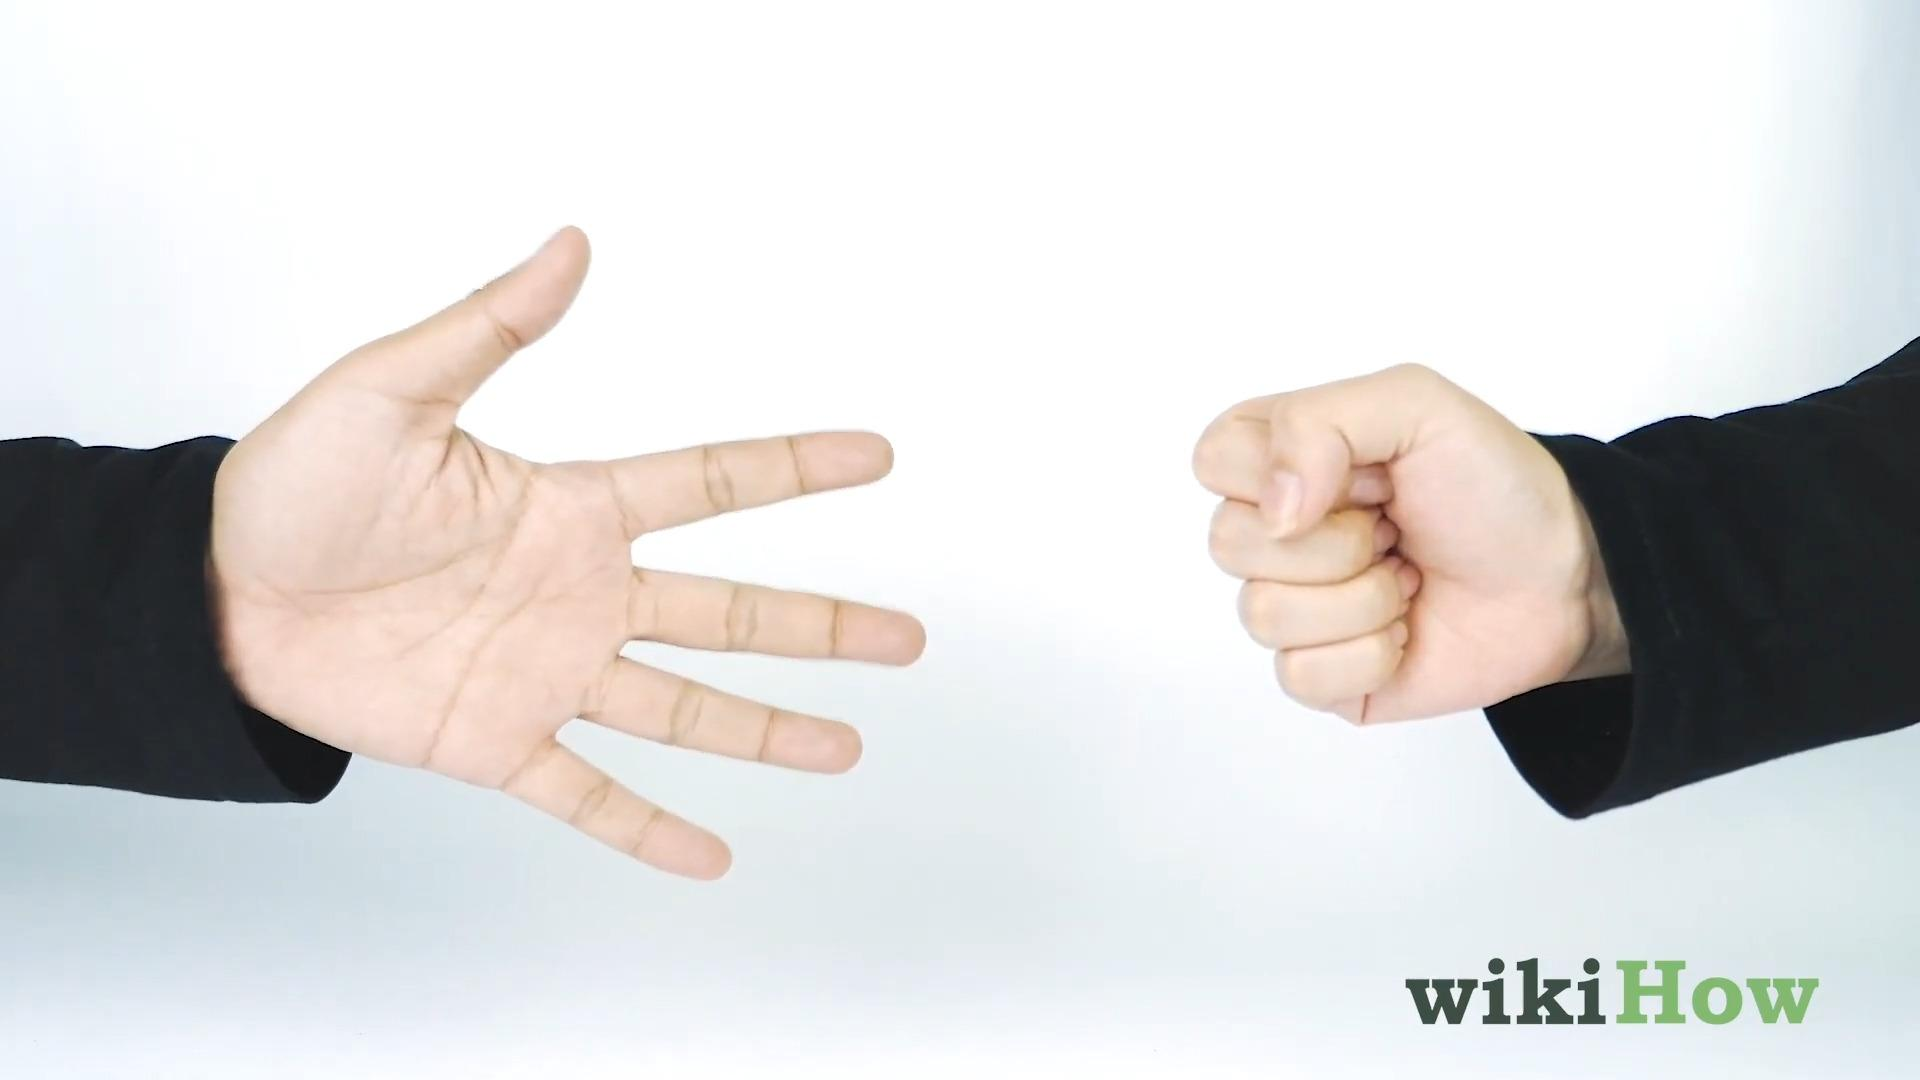Paper: (210, 225, 928, 882)
Rock: (1188, 357, 1597, 733)
